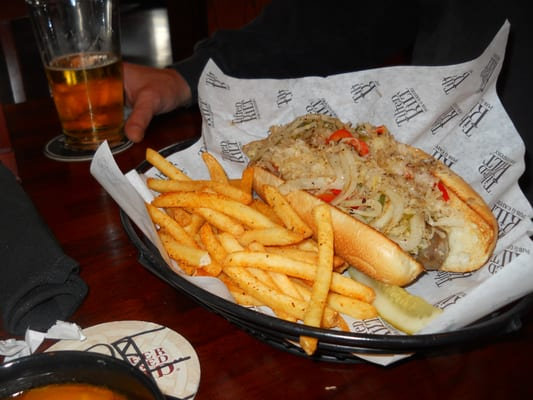pizza: (25, 0, 126, 156)
soup: (242, 113, 501, 283)
